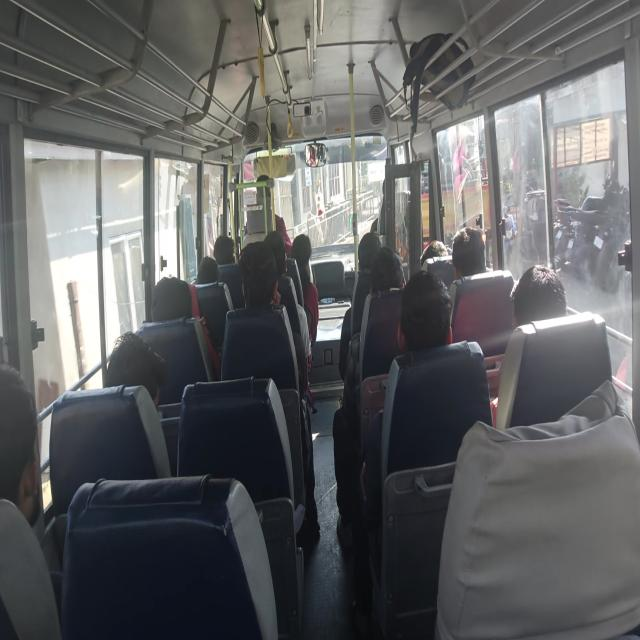person: (0, 357, 50, 620), (409, 275, 476, 409), (457, 224, 504, 299), (110, 334, 170, 390), (242, 248, 278, 318), (156, 274, 195, 333), (370, 250, 406, 307), (518, 275, 551, 337), (288, 234, 332, 276), (357, 238, 394, 287), (212, 237, 248, 278), (425, 234, 455, 272), (262, 234, 292, 268), (191, 256, 209, 272)
